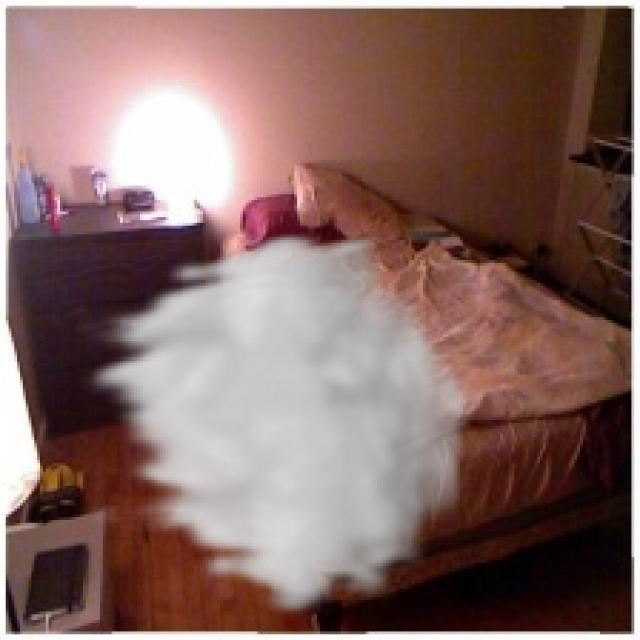Smoke: (74, 228, 477, 620)
